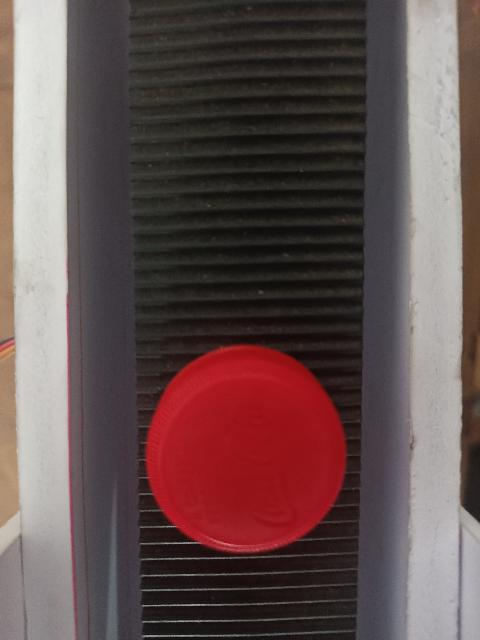bottlecap: (143, 337, 353, 558)
